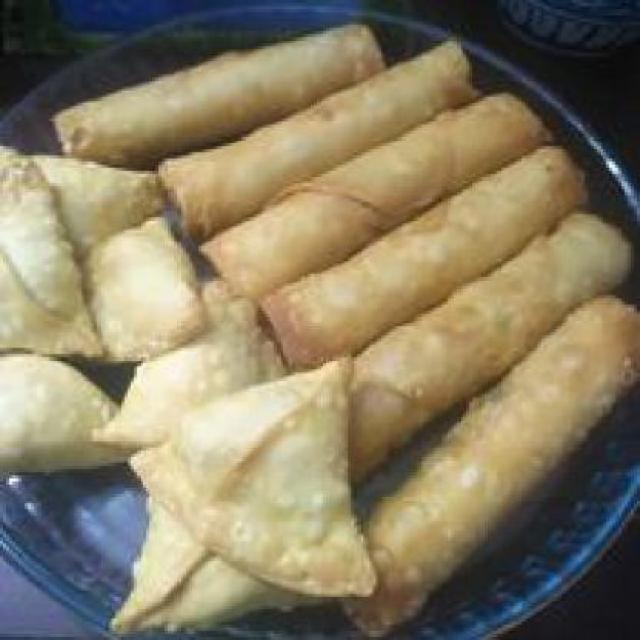spring rolls: (268, 21, 637, 637)
